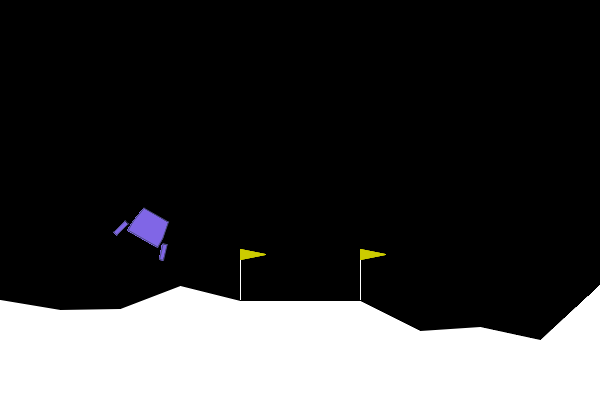lander: (111, 199, 183, 263)
